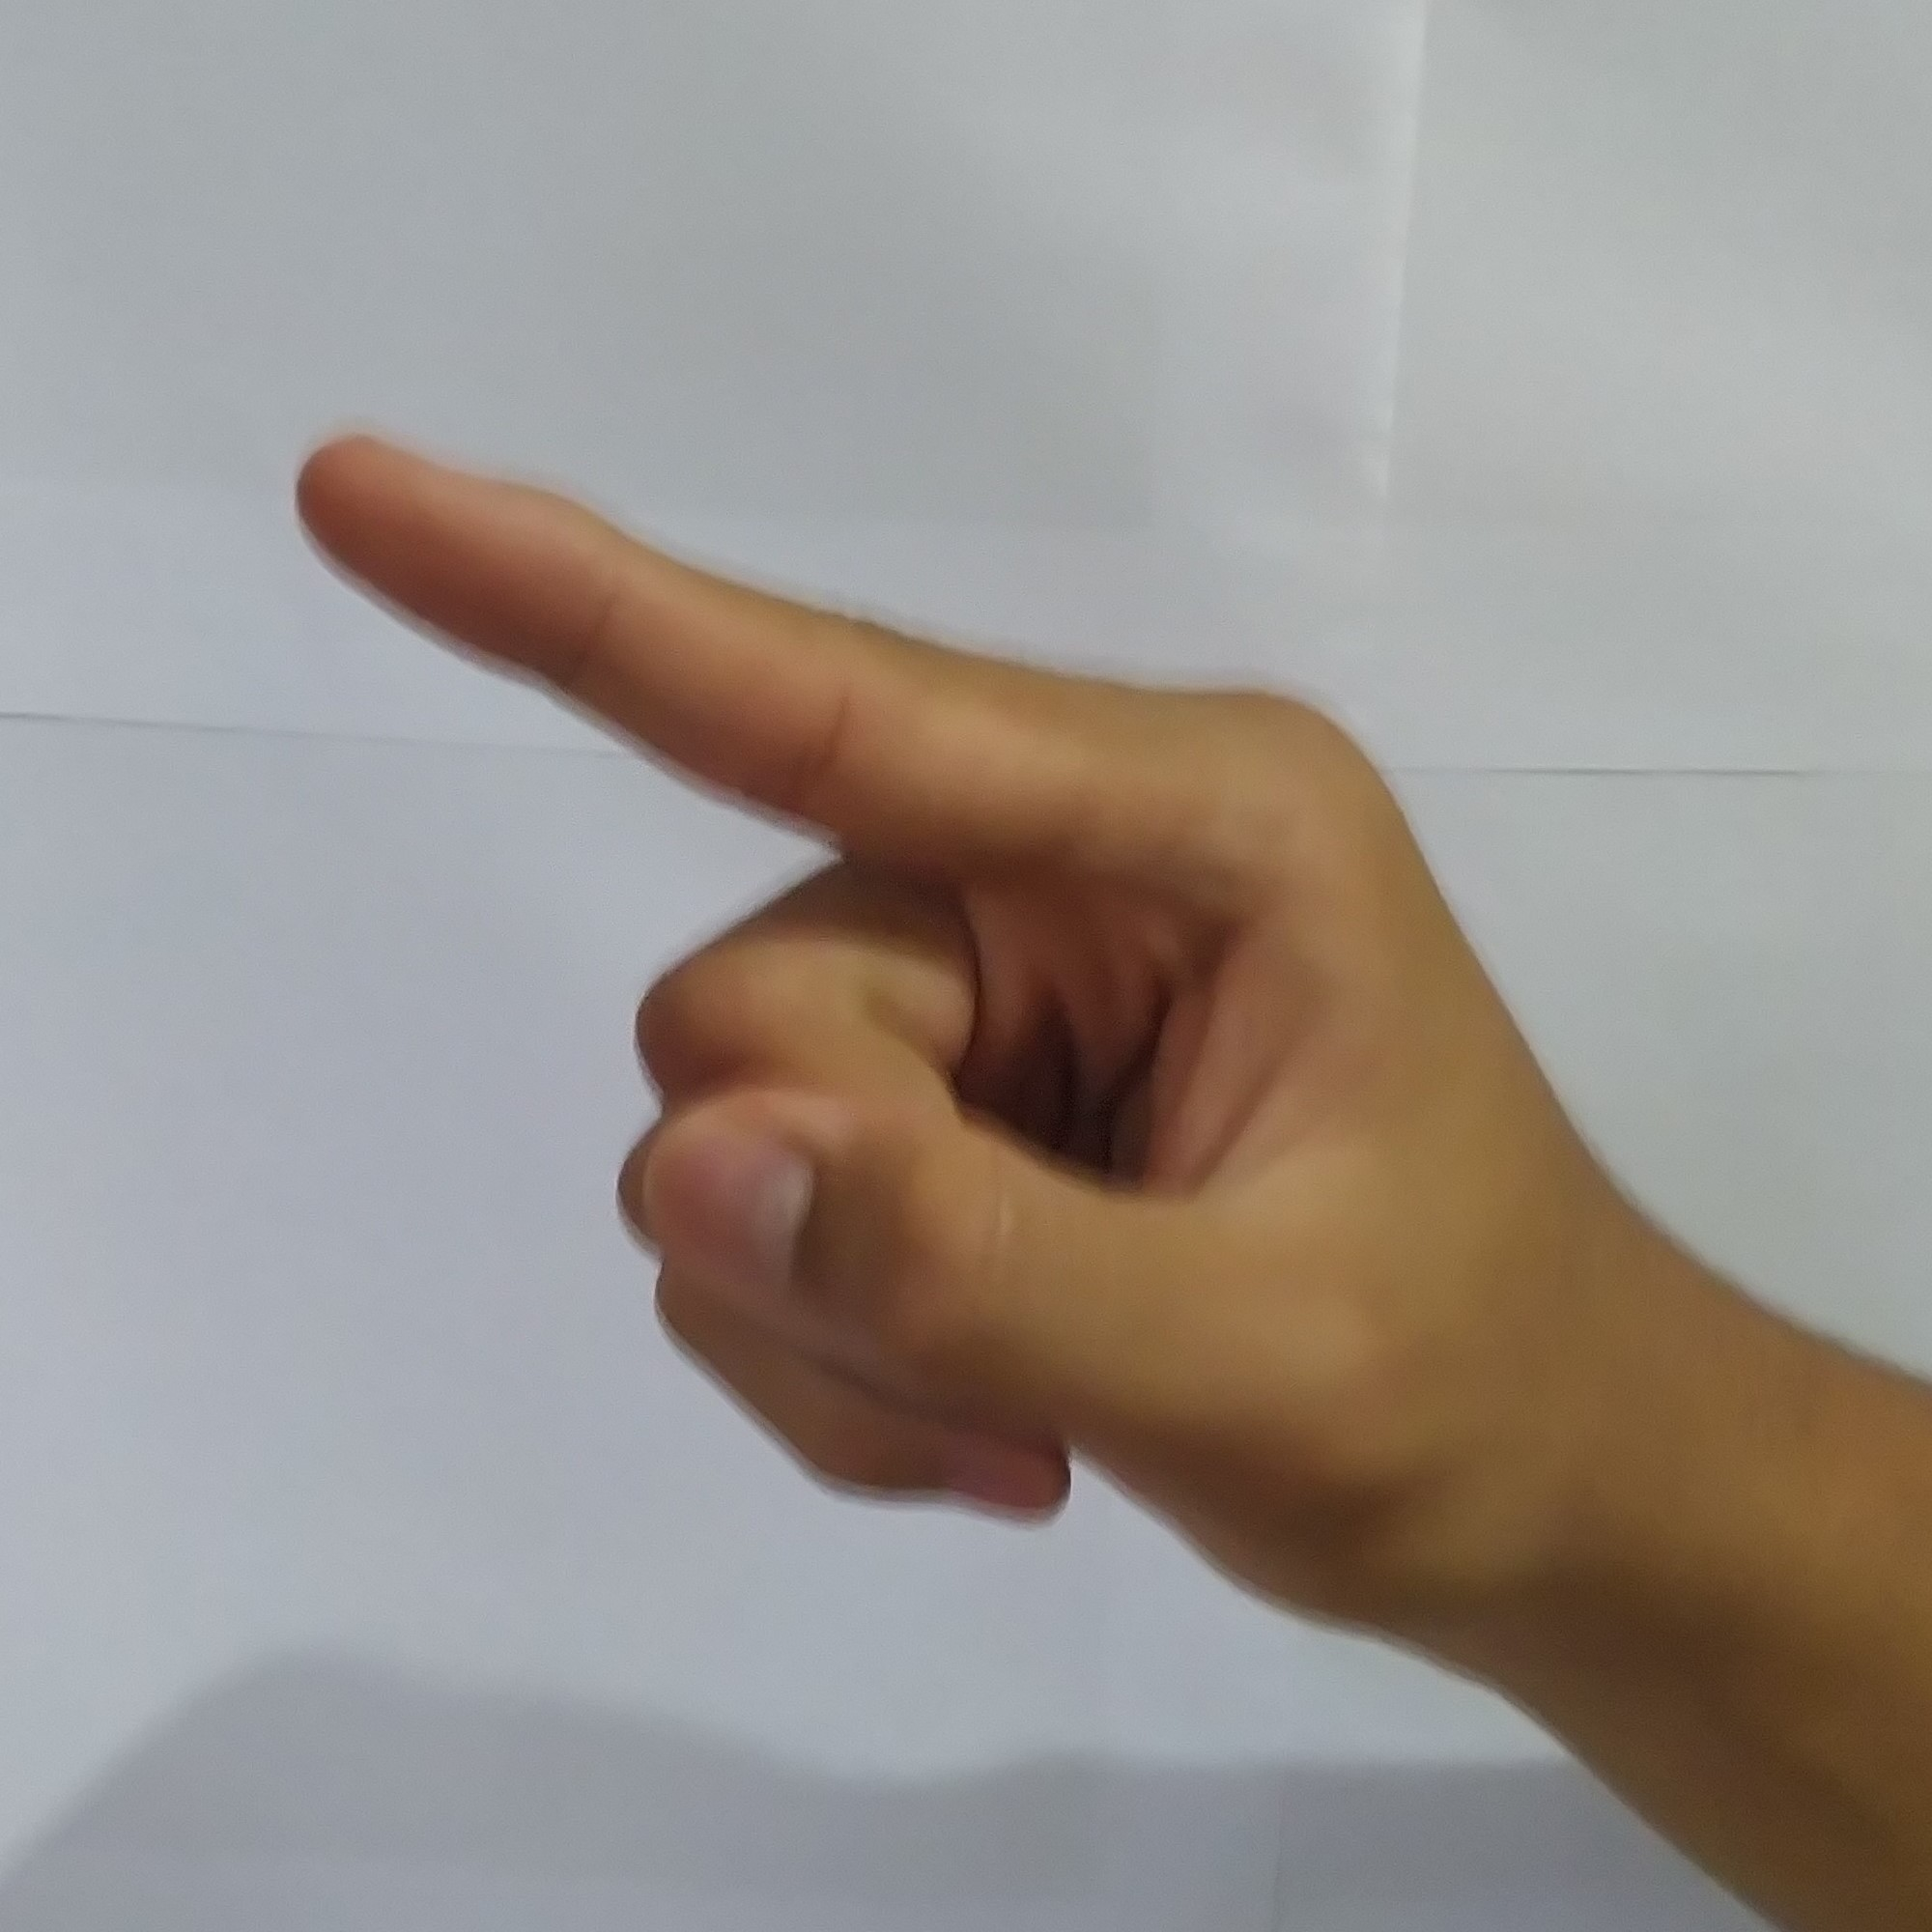Z: (258, 396, 1736, 1633)
